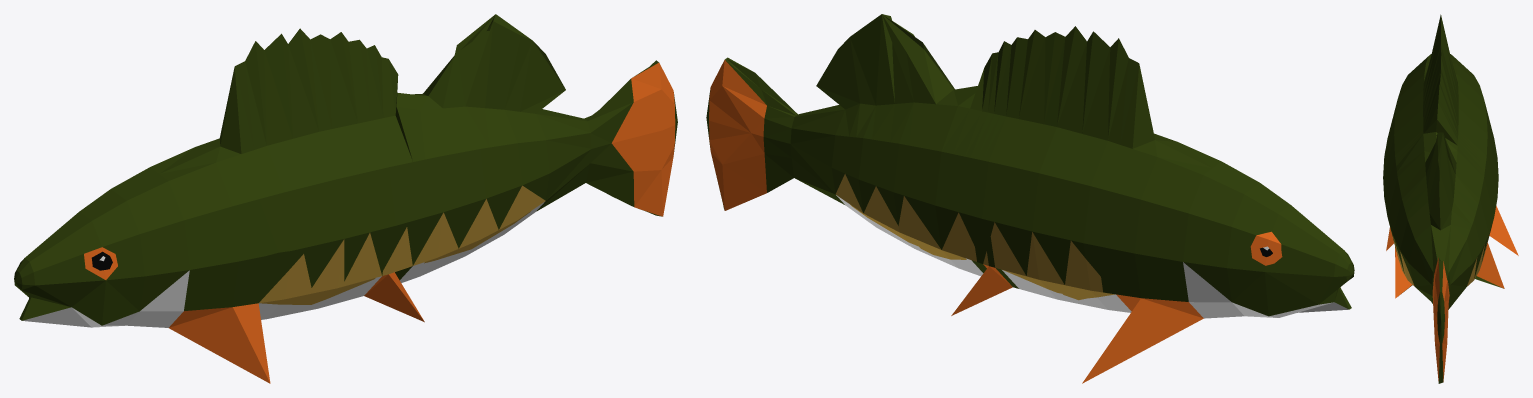
File: the fish model.fbx
3 views of the same model, side by side, from view 1: azimuth 30°, elevation 25°; view 2: azimuth 150°, elevation 25°; view 3: azimuth 270°, elevation 25° (orthographic). The views are drawn at different scales.
Visible parts, largest first — view 1: 球体; view 2: 球体; view 3: 球体.
Part boxes in pixels (x1,y1,x2,y2): 球体: [14, 14, 677, 383]; 球体: [706, 14, 1354, 383]; 球体: [1383, 14, 1518, 383].
Bounding box in the file's own units: 514 × 234 × 116.
